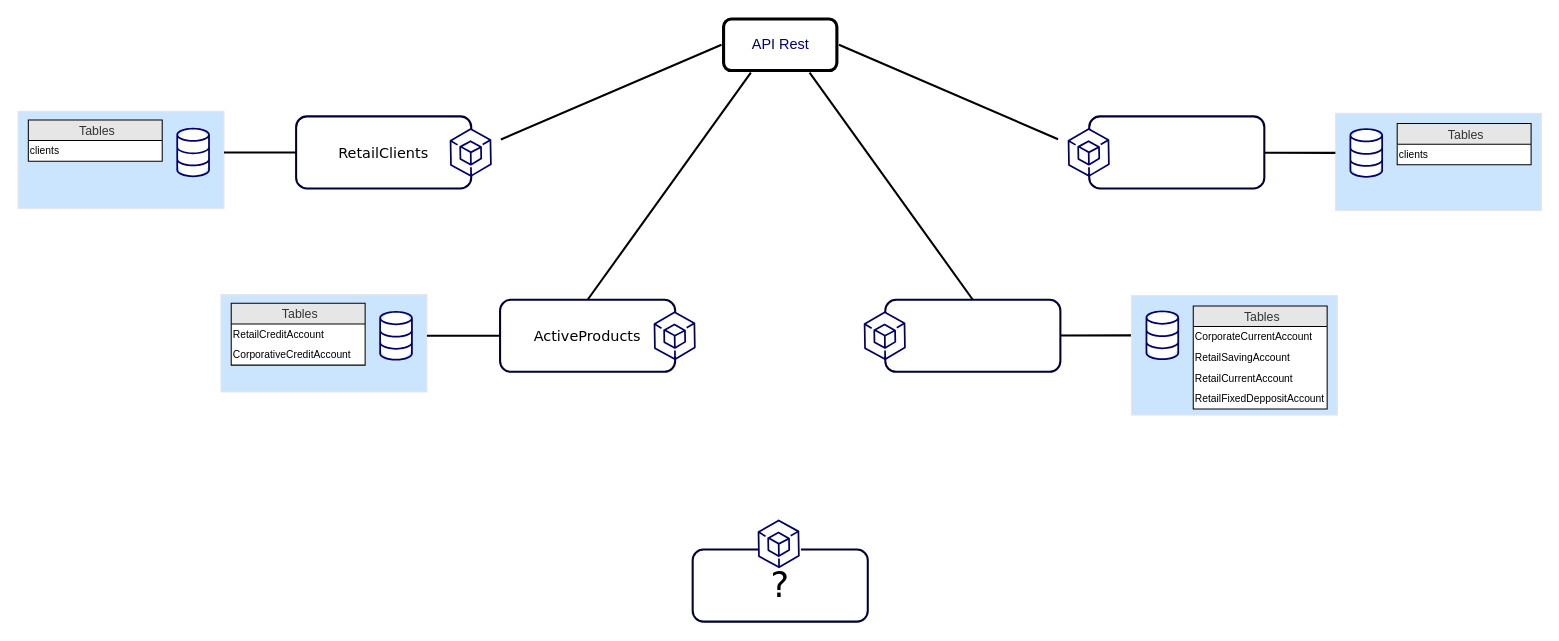
The diagram is 1559 pixels wide and 641 high, and some of its shapes have lost their labels. The shapes that lost their labels are listed below. From the top down, each one's centre as x and y in pixels, then its label:
At [1176,152]: "CorporateClients".
At [972,335]: "PassiveProducts".
